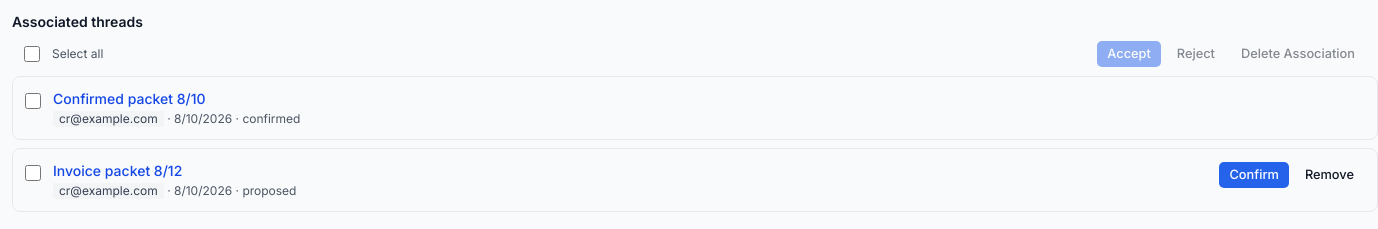
Scenario: AssociatedThreadsList › bulk deletes only selected confirmed associations
The width and height of the screenshot is (1378, 229).
Click the checkbox named "Select associated thread Confirmed packet 8/10". click: coordinates (33, 101)
box: [25,93,41,109]
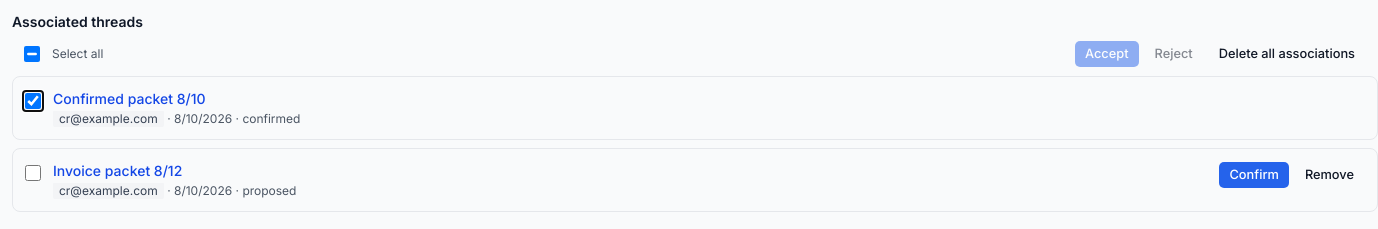
Click the button "Delete all associations". click: coordinates (1287, 54)
box: [1208,40,1366,68]
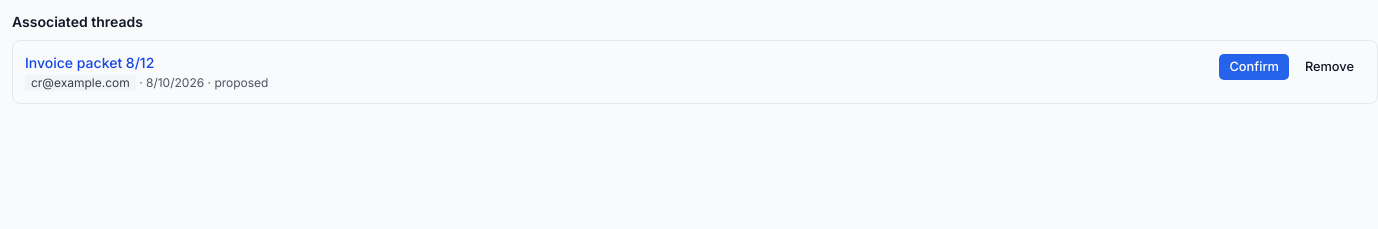
Expected: the button "Invoice packet 8/12" is shown, [25,53,154,73]
Expected: the button "Confirmed packet 8/10" is gone
